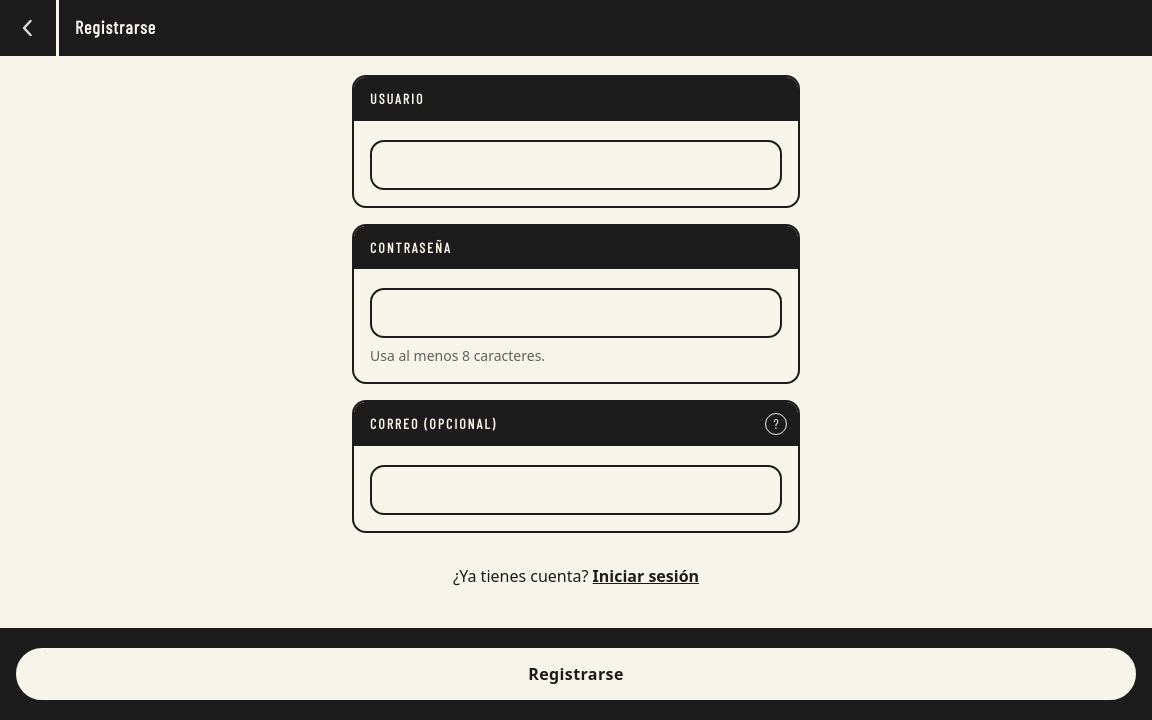
Test: AuthScreen (registrarse) › explica para qué sirve el correo con el botón de ayuda
The image size is (1152, 720).
Step 1. Click the button named "¿Para qué sirve el correo?" → point(776, 424), box [754,402,798,446]
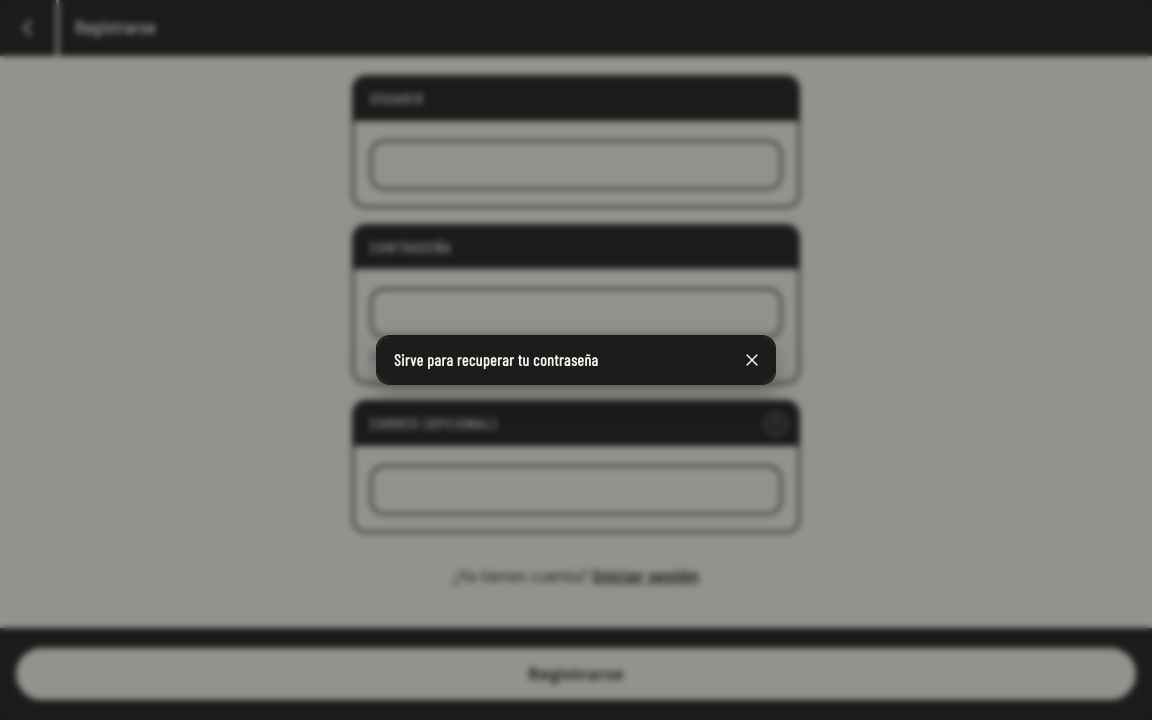
Result: the dialog reads "Sirve para recuperar tu contraseña" at [394,350,598,369]
Step 2. Click the button named "Cerrar" → point(752, 360), box [730,337,774,383]
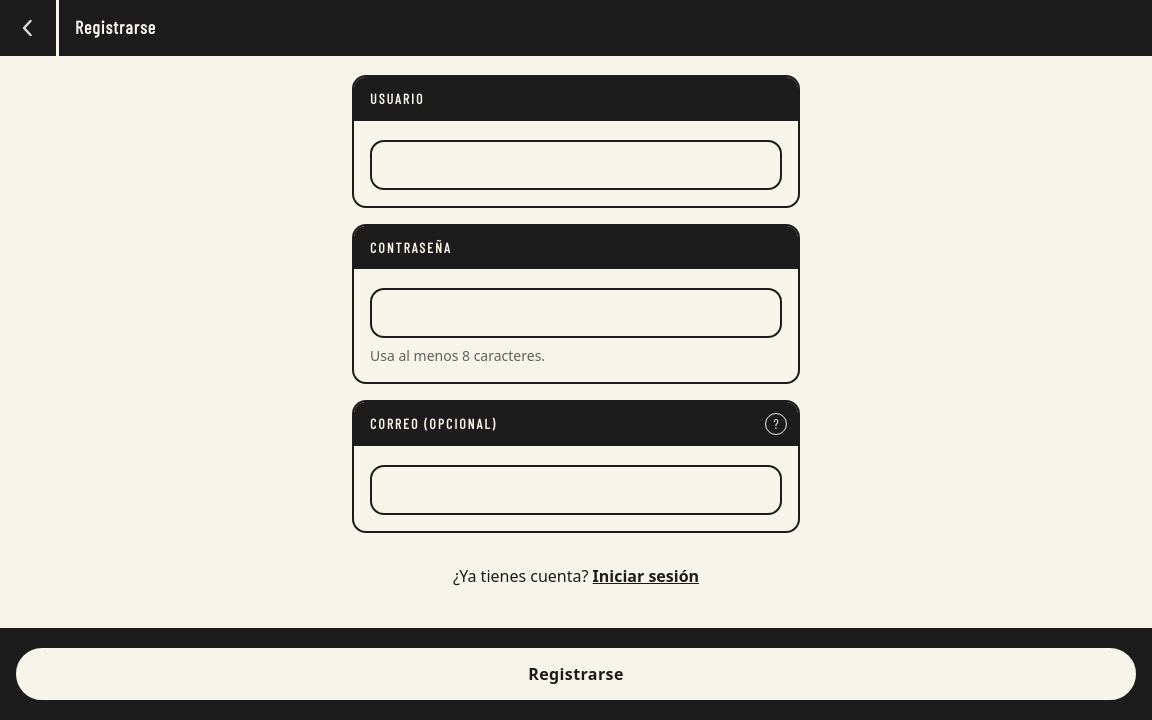
Result: the dialog is gone
